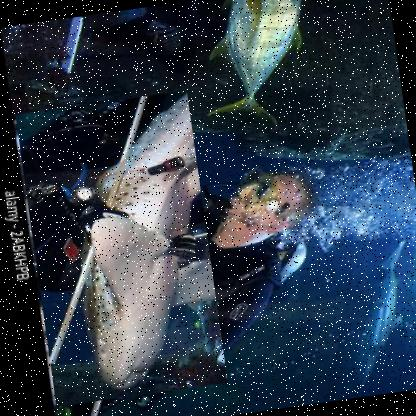zebra_shark: (13, 90, 227, 407)
